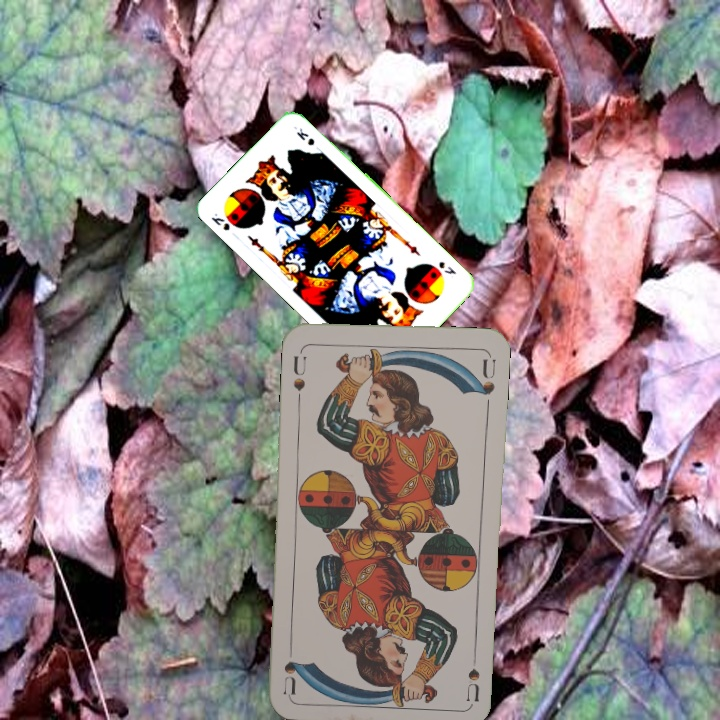SK: (207, 209, 232, 233), (434, 257, 459, 277)
SU: (462, 643, 483, 702), (289, 352, 309, 393)
